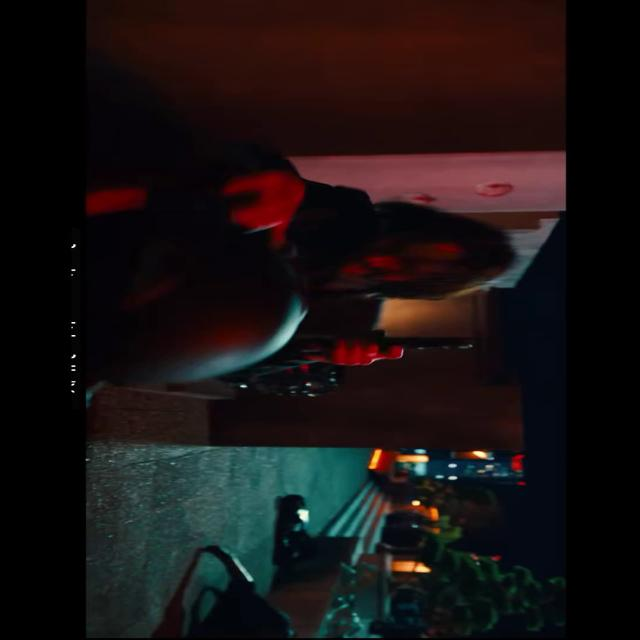weapons: (310, 325, 502, 371)
